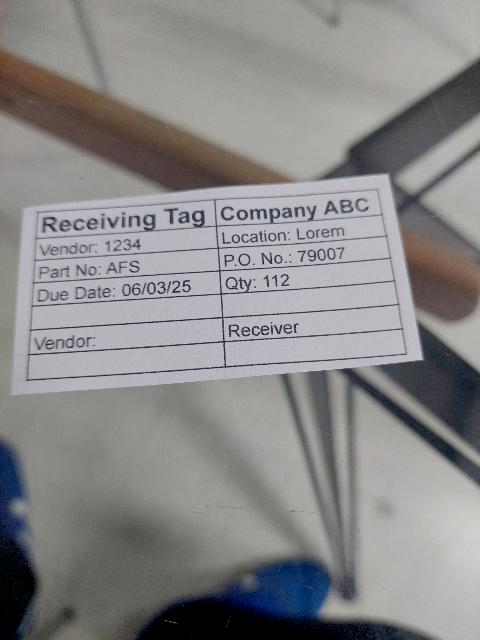PO no: (218, 236, 388, 272)
part no: (33, 250, 215, 282)
qty: (219, 260, 396, 294)
tags: (10, 174, 425, 399)
